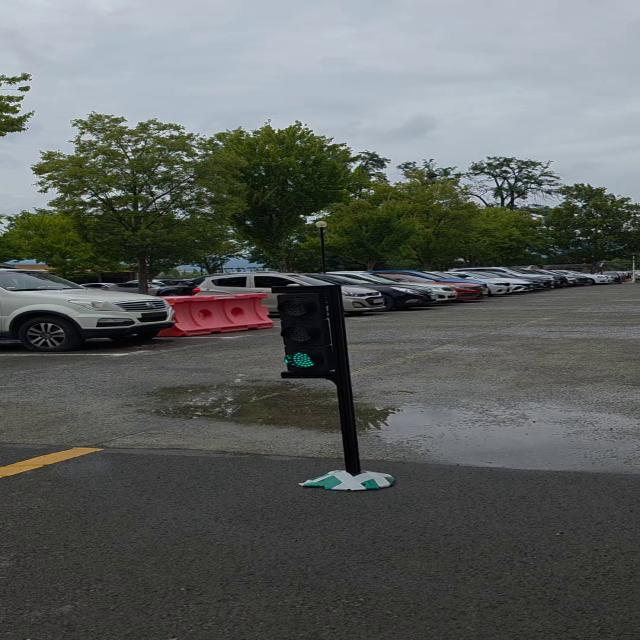green: (271, 288, 347, 378)
